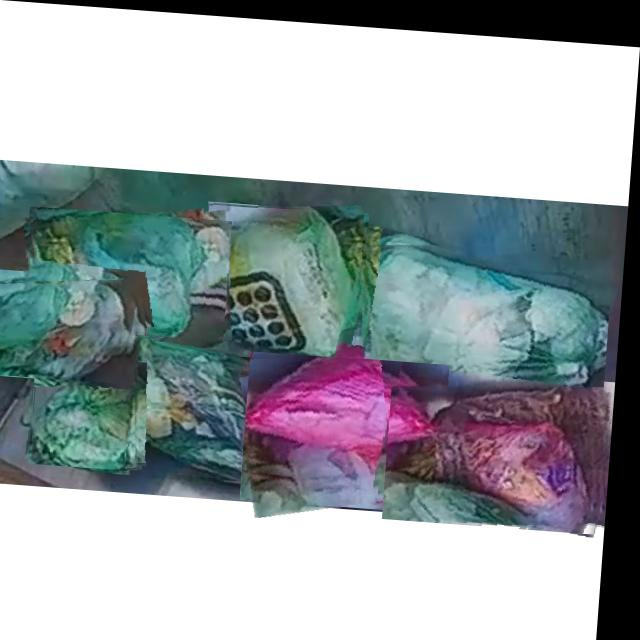general_trashbag: (365, 237, 613, 399), (32, 211, 232, 339), (205, 203, 365, 353), (139, 337, 255, 478), (0, 278, 134, 378), (38, 372, 148, 468)
other_trashbag: (394, 378, 613, 523), (251, 352, 442, 488)
